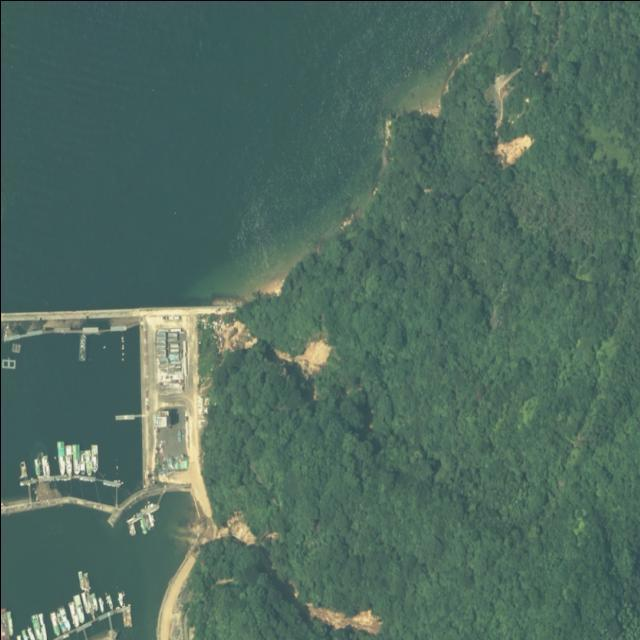landslide: (305, 605, 381, 634), (273, 338, 330, 374), (494, 133, 533, 166), (225, 512, 254, 545)
